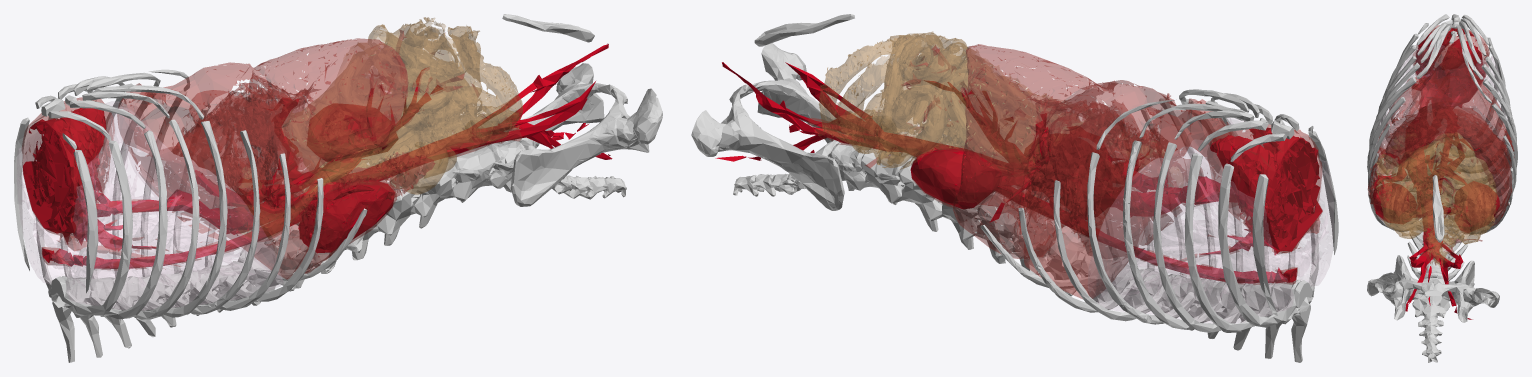
Rendered from chien.glb.
The picture shows the model from 3 angles, left to right: view 1: azimuth 30°, elevation 25°; view 2: azimuth 150°, elevation 25°; view 3: azimuth 270°, elevation 25°; orthographic projection. The views are drawn at different scales.
Parts seen in each view (by area): view 1: Object_7, Object_24, Object_11, Object_8, Object_18, Object_25, Object_23, Object_3, Object_19, Object_2, Object_26, Object_17 (+7 smaller); view 2: Object_7, Object_24, Object_11, Object_25, Object_8, Object_18, Object_23, Object_2, Object_19, Object_22, Object_26, Object_3 (+6 smaller); view 3: Object_7, Object_11, Object_24, Object_18, Object_8, Object_19, Object_25, Object_23, Object_26, Object_17, Object_12, Object_15 (+6 smaller).
Boxes of the visible parts, x1=… form: Object_7: x1=14, y1=63, x2=662, y2=362; Object_24: x1=117, y1=38, x2=435, y2=279; Object_11: x1=23, y1=44, x2=612, y2=268; Object_8: x1=82, y1=14, x2=662, y2=327; Object_18: x1=288, y1=18, x2=522, y2=193; Object_25: x1=179, y1=39, x2=405, y2=279; Object_23: x1=21, y1=29, x2=521, y2=270; Object_3: x1=17, y1=101, x2=248, y2=298; Object_19: x1=369, y1=17, x2=522, y2=153; Object_2: x1=17, y1=102, x2=283, y2=310; Object_26: x1=229, y1=38, x2=426, y2=269; Object_17: x1=233, y1=58, x2=472, y2=238; Object_7: x1=691, y1=43, x2=1338, y2=362; Object_24: x1=911, y1=44, x2=1232, y2=264; Object_11: x1=715, y1=62, x2=1322, y2=283; Object_25: x1=961, y1=62, x2=1183, y2=259; Object_8: x1=693, y1=14, x2=1259, y2=323; Object_18: x1=821, y1=32, x2=1080, y2=173; Object_23: x1=807, y1=37, x2=1322, y2=284; Object_2: x1=1088, y1=147, x2=1333, y2=323; Object_19: x1=815, y1=31, x2=988, y2=164; Object_22: x1=1023, y1=154, x2=1139, y2=298; Object_26: x1=913, y1=45, x2=1118, y2=257; Object_3: x1=1125, y1=118, x2=1333, y2=316; Object_7: x1=1367, y1=14, x2=1516, y2=362; Object_11: x1=1373, y1=28, x2=1499, y2=319; Object_24: x1=1367, y1=44, x2=1514, y2=234; Object_18: x1=1376, y1=133, x2=1497, y2=255; Object_8: x1=1367, y1=22, x2=1517, y2=361; Object_19: x1=1376, y1=132, x2=1496, y2=266; Object_25: x1=1368, y1=76, x2=1513, y2=219; Object_23: x1=1394, y1=25, x2=1489, y2=269; Object_26: x1=1368, y1=96, x2=1512, y2=229; Object_17: x1=1378, y1=133, x2=1496, y2=229; Object_12: x1=1398, y1=162, x2=1483, y2=235; Object_15: x1=1396, y1=151, x2=1496, y2=258.
Size of the model in its own units: 2.38 by 1.04 by 0.771.
